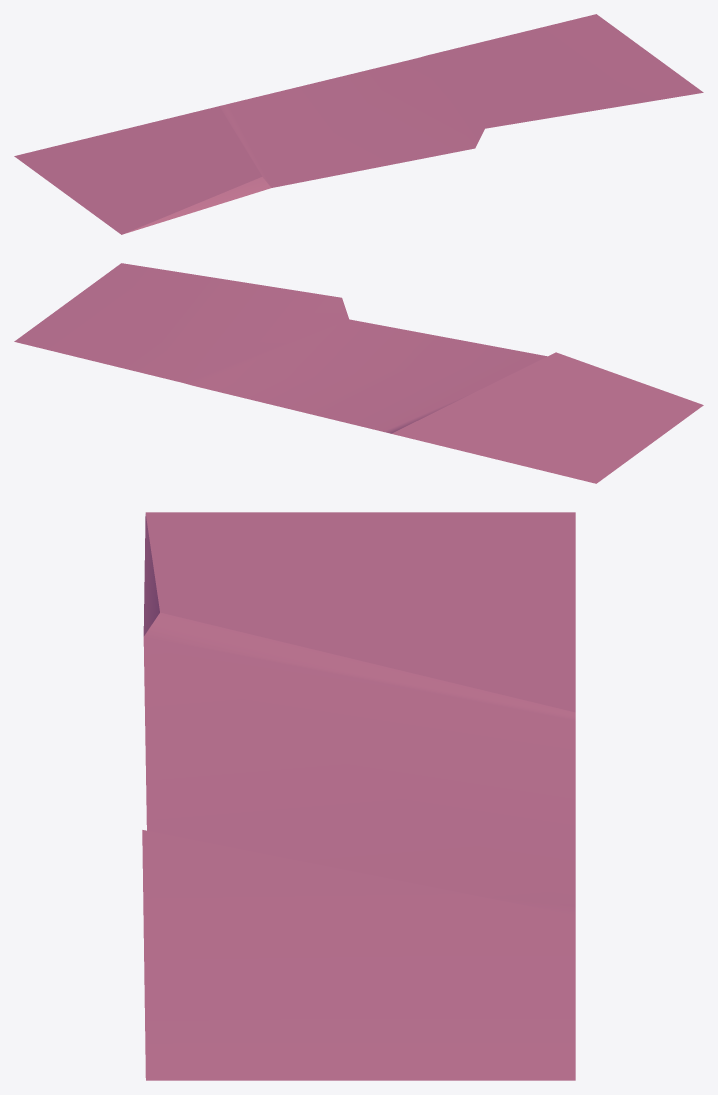
File: Module_Wall_In_2x2_Mesh_v01_Top.fbx
3 views of the same model, one above another, from view 1: azimuth 30°, elevation 25°; view 2: azimuth 150°, elevation 25°; view 3: azimuth 270°, elevation 25° (orthographic). The views are drawn at different scales.
Visible parts, largest first — view 1: Module_Wall_In_2x2_Mesh_v01_Top; view 2: Module_Wall_In_2x2_Mesh_v01_Top; view 3: Module_Wall_In_2x2_Mesh_v01_Top.
Part boxes in pixels (x1,y1,x2,y2): Module_Wall_In_2x2_Mesh_v01_Top: (14, 14, 703, 234); Module_Wall_In_2x2_Mesh_v01_Top: (14, 263, 703, 483); Module_Wall_In_2x2_Mesh_v01_Top: (142, 512, 575, 1080).
Bounding box in the file's own units: 400 × 13.54 × 129.
